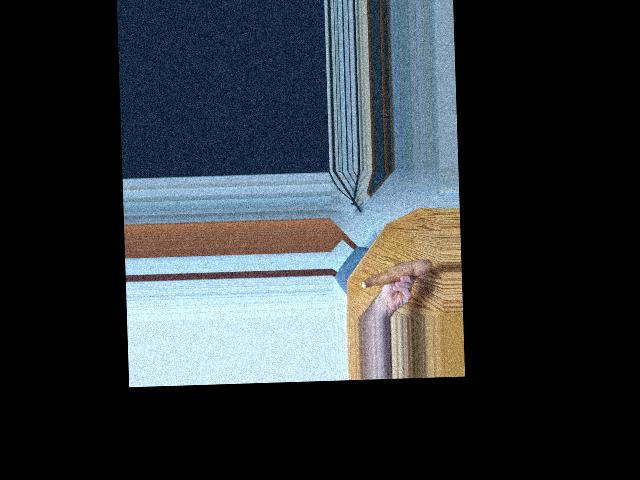sweet_potato: (358, 254, 430, 288)
